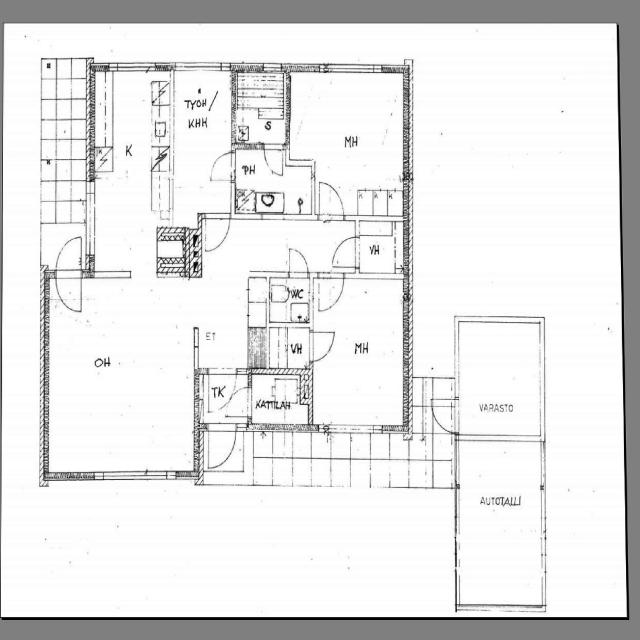door: (208, 423, 236, 469), (208, 368, 236, 412), (56, 269, 82, 313), (56, 235, 82, 278), (430, 399, 459, 432), (205, 215, 230, 253), (319, 272, 343, 311), (319, 182, 343, 220), (334, 238, 359, 268), (310, 332, 334, 362), (227, 388, 251, 416), (211, 152, 235, 180), (264, 144, 283, 174), (290, 248, 308, 278)
